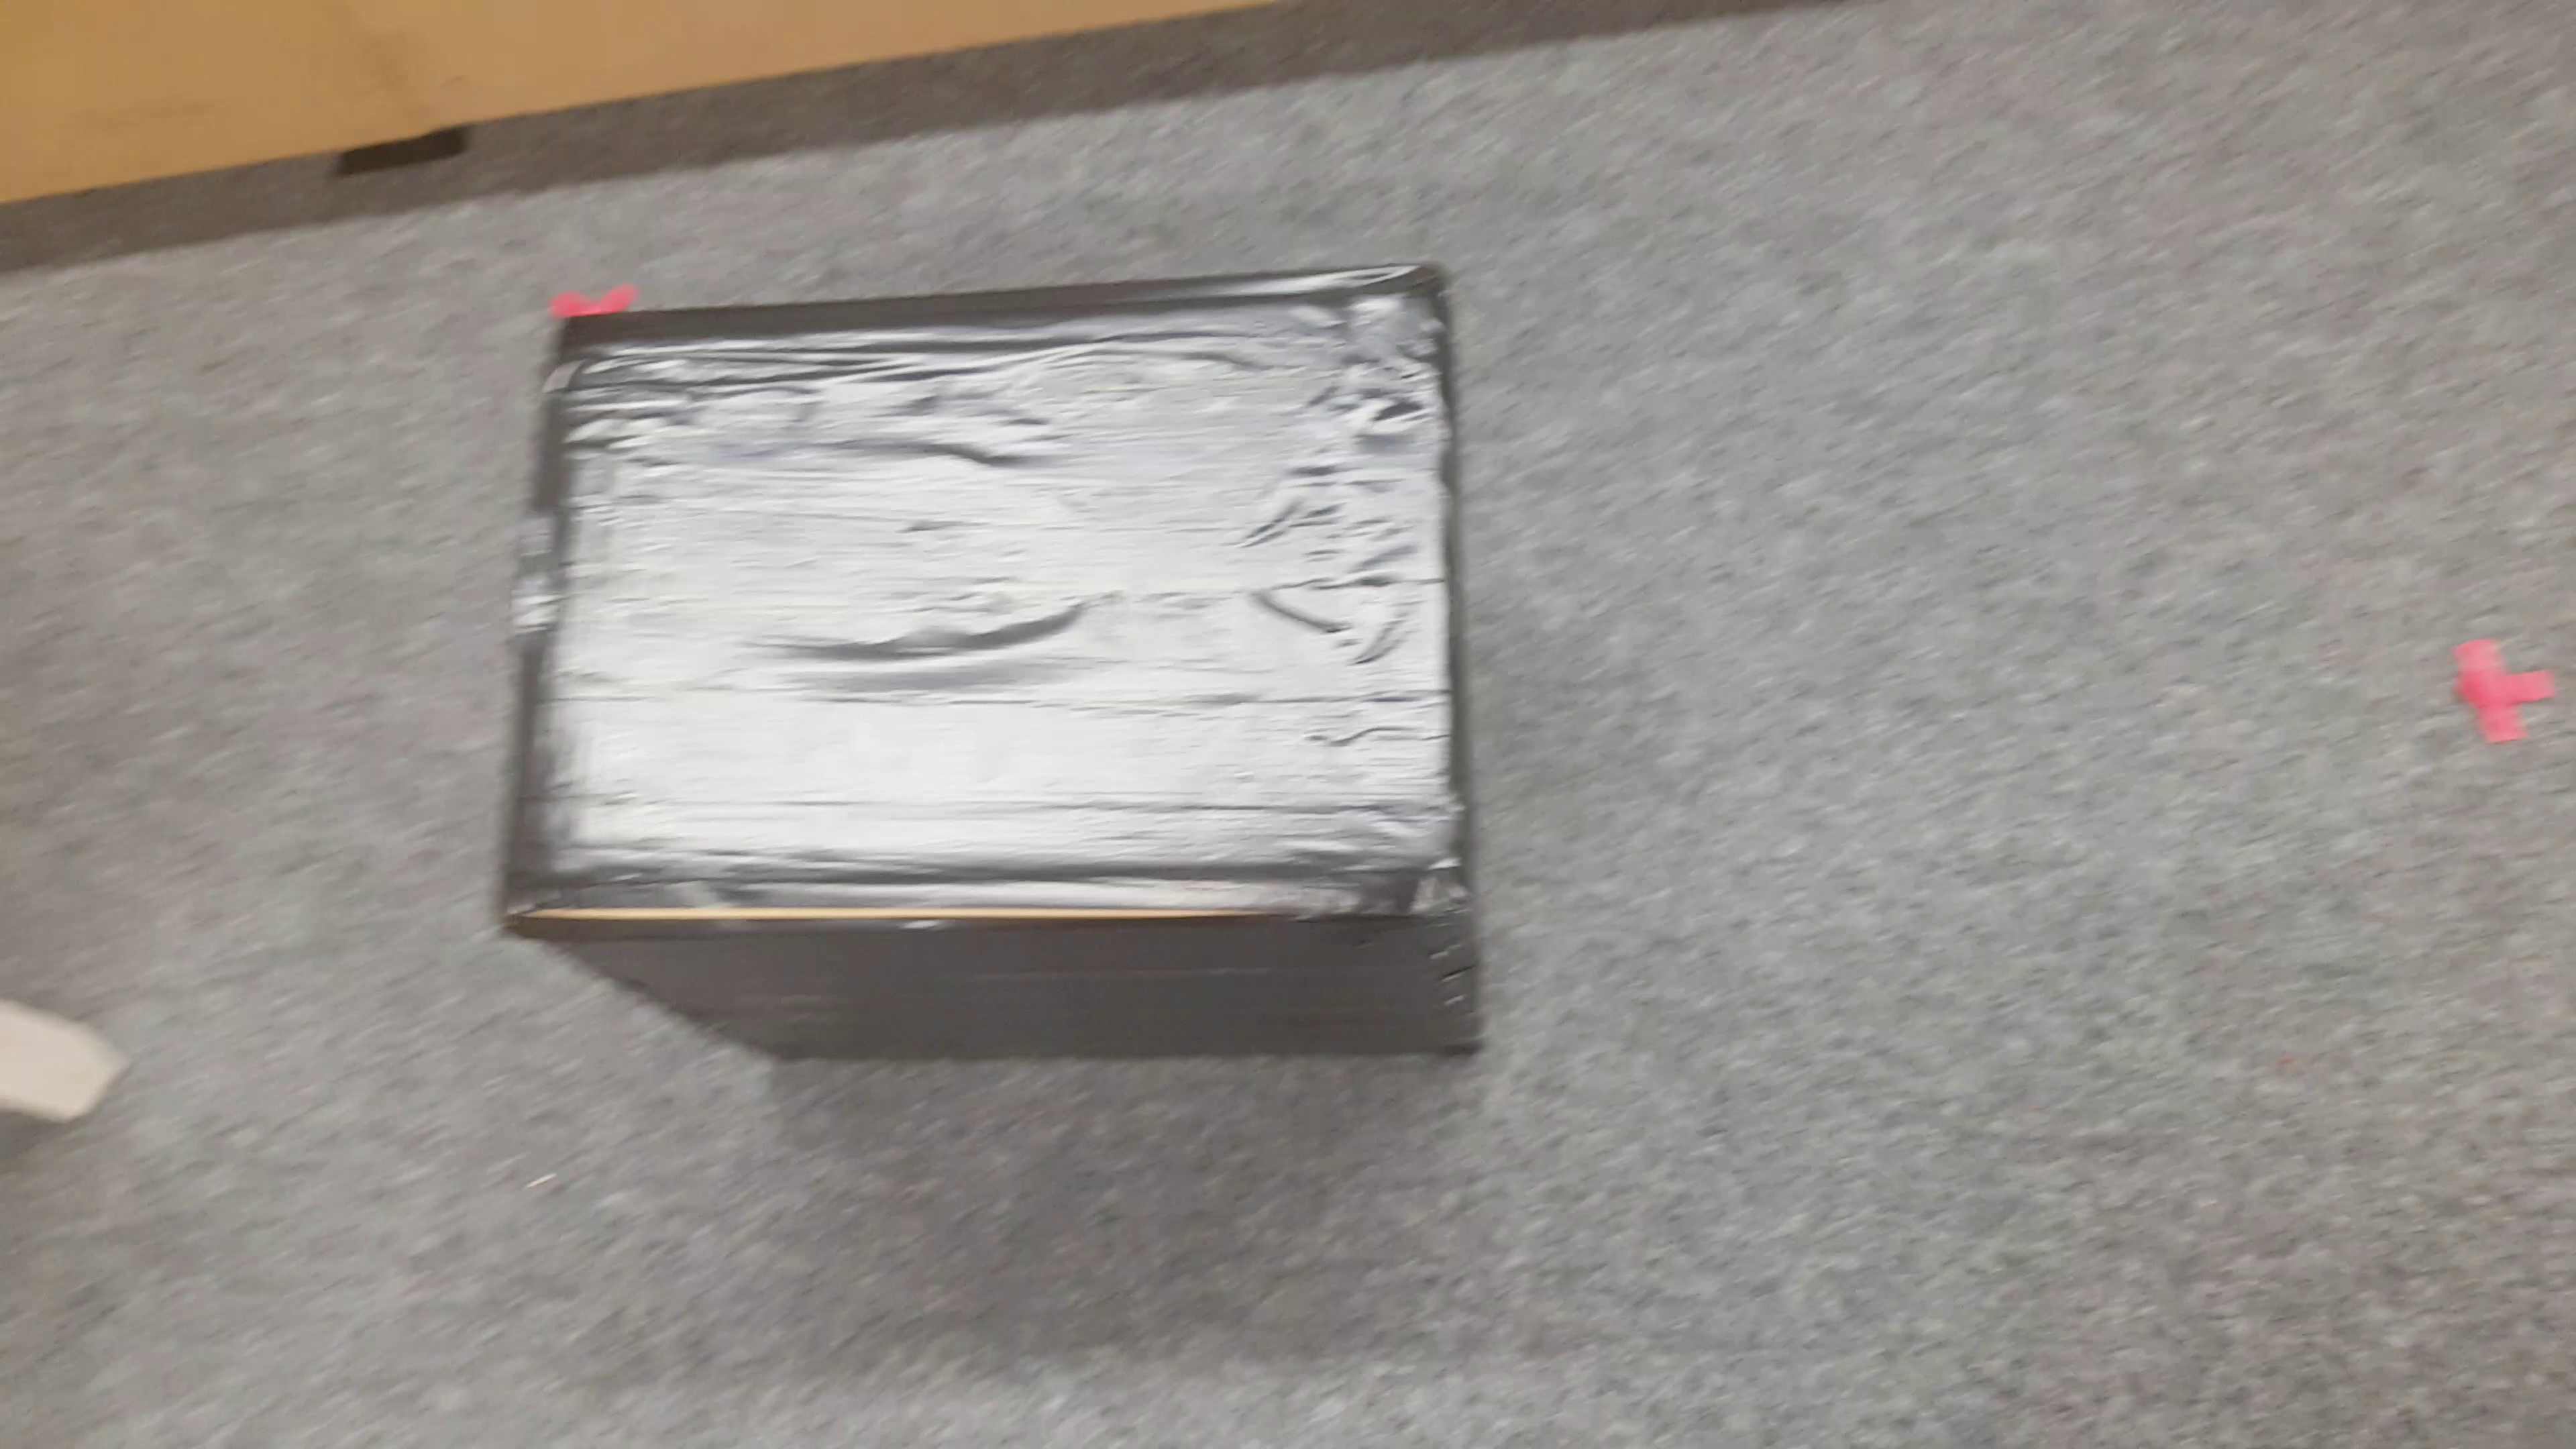push: (504, 313, 1497, 1079)
